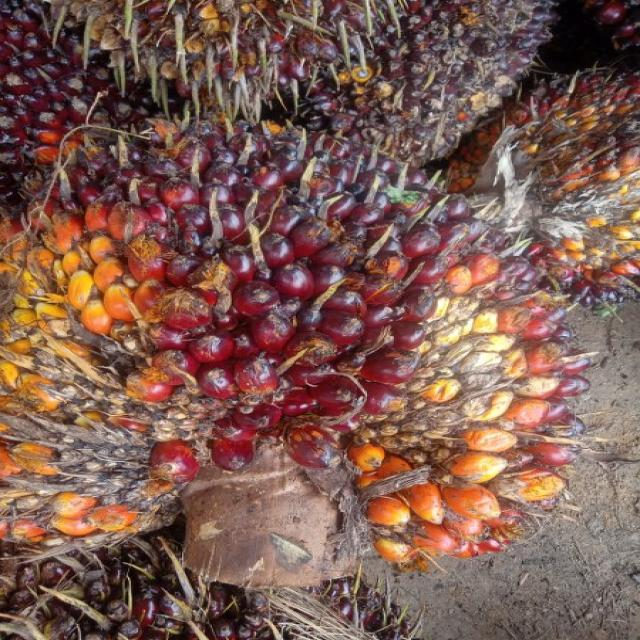fraksi 1: (0, 100, 620, 624)
